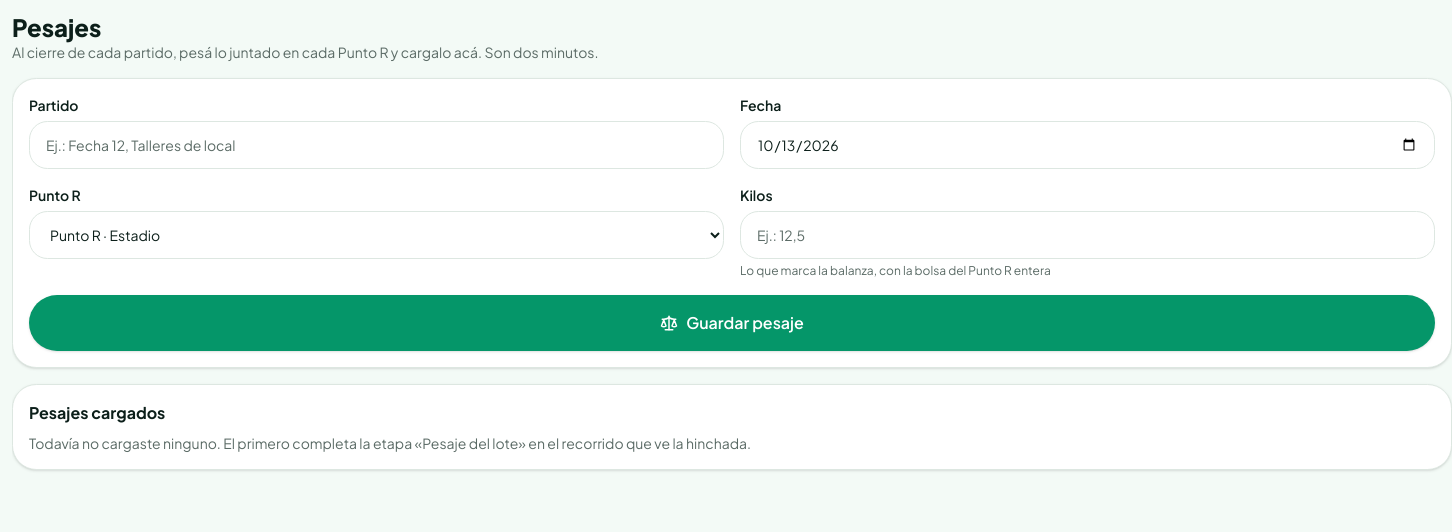
Test: Pesajes del panel del club › guarda el pesaje con kilos con coma, lo lista con sus tapitas y avisa dónde lo ve el hincha
The width and height of the screenshot is (1452, 532).
Step 1. Type "Talleres vs. Belgrano" into the field labelled "Partido" → (376, 145), box left=29, top=121, right=724, bottom=169
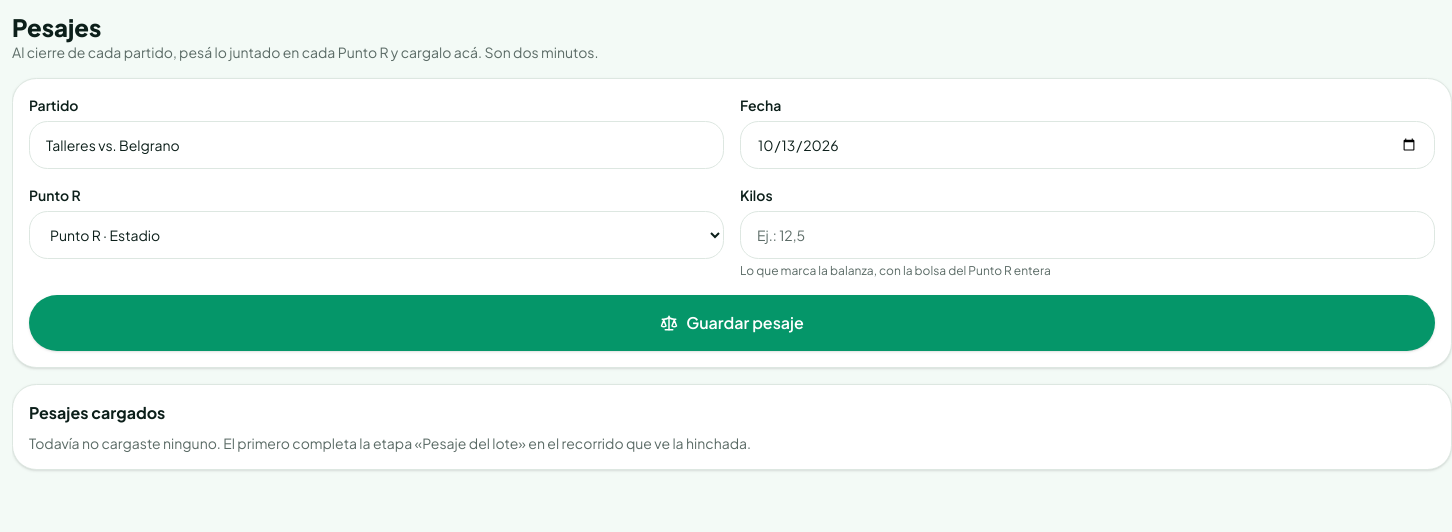
Step 2. Type "2026-10-12" into the date field labelled "Fecha" → (1088, 145), box left=740, top=121, right=1435, bottom=169
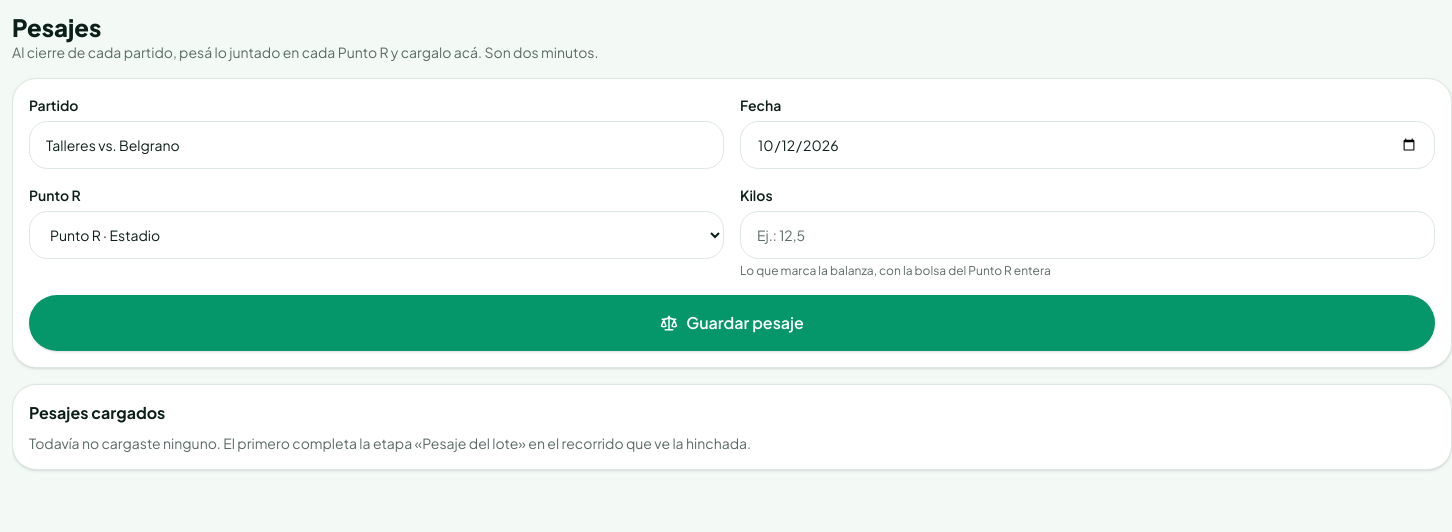
Step 3. Select "Punto R · Sede social" in the dropdown labelled "Punto R" → (376, 235), box left=29, top=211, right=724, bottom=259
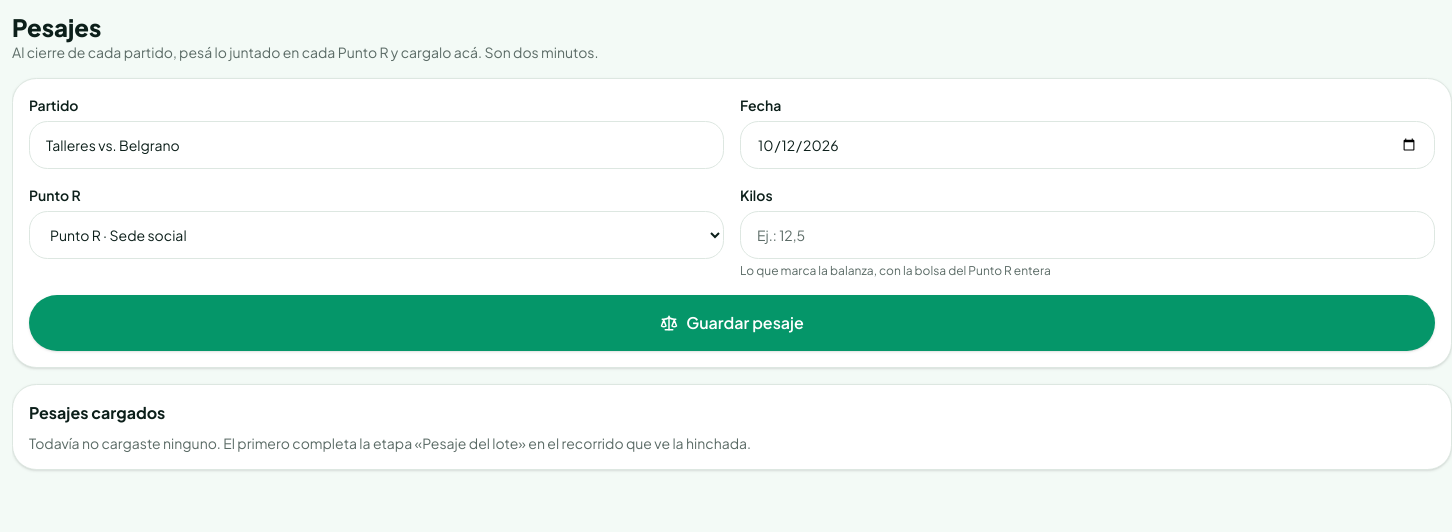
Step 4. Type "12,5" into the field labelled "Kilos" → (1088, 235), box left=740, top=211, right=1435, bottom=259
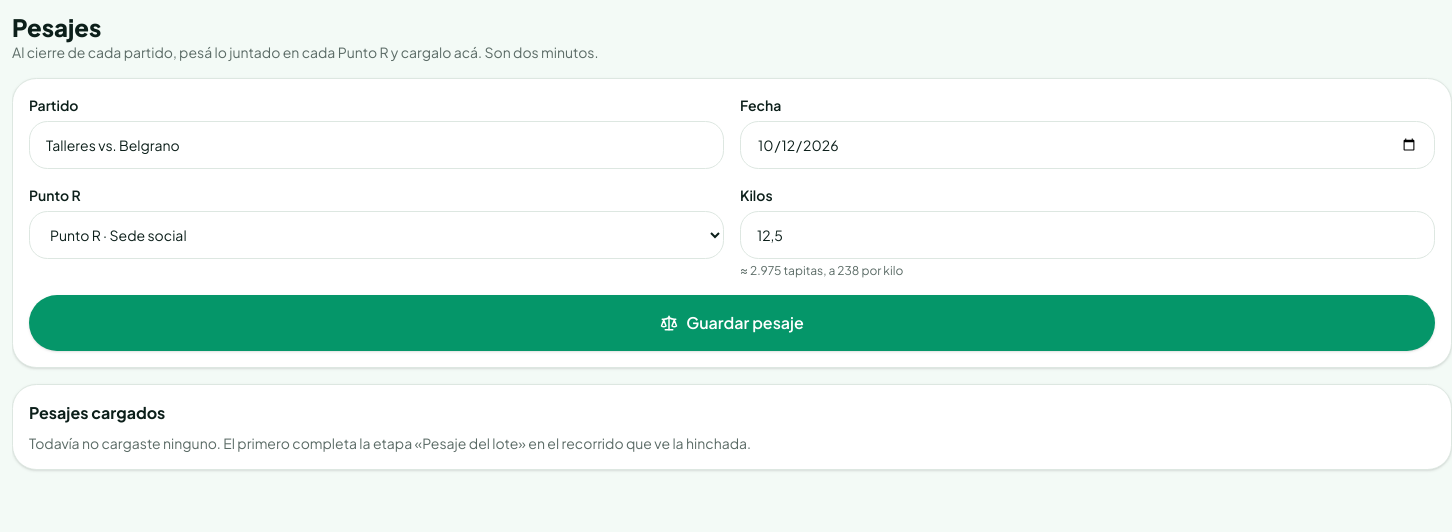
Now the text "≈ 2.975 tapitas, a 238 por kilo" is shown, box left=740, top=263, right=903, bottom=278
Step 5. Click the button "Guardar pesaje" → (732, 323), box left=29, top=295, right=1435, bottom=351
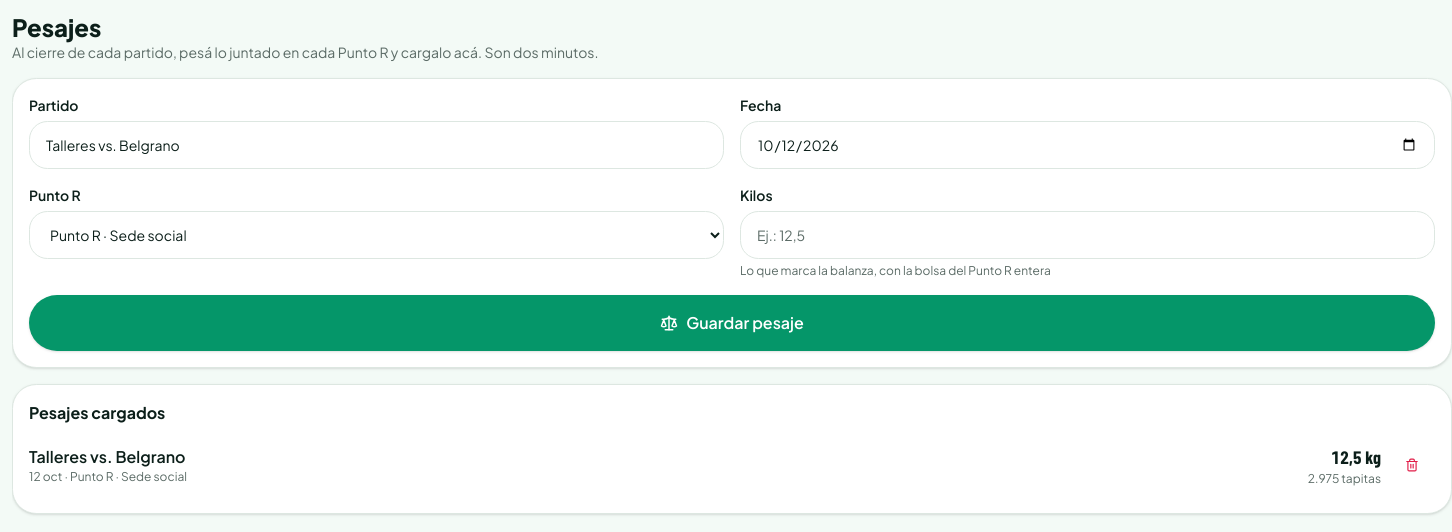
Now the text "2.975 tapitas" is shown, box left=1308, top=471, right=1381, bottom=487
Now the text "Talleres vs. Belgrano" is shown, box left=29, top=445, right=187, bottom=469
Now the text "12,5 kg" is shown, box left=1331, top=446, right=1381, bottom=468
